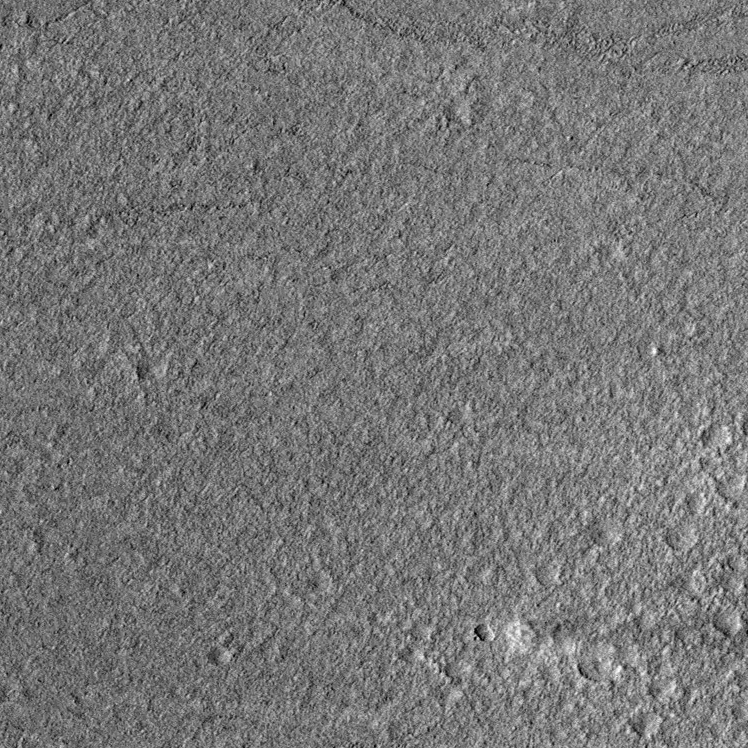dust_devil: (500, 614, 748, 669)
